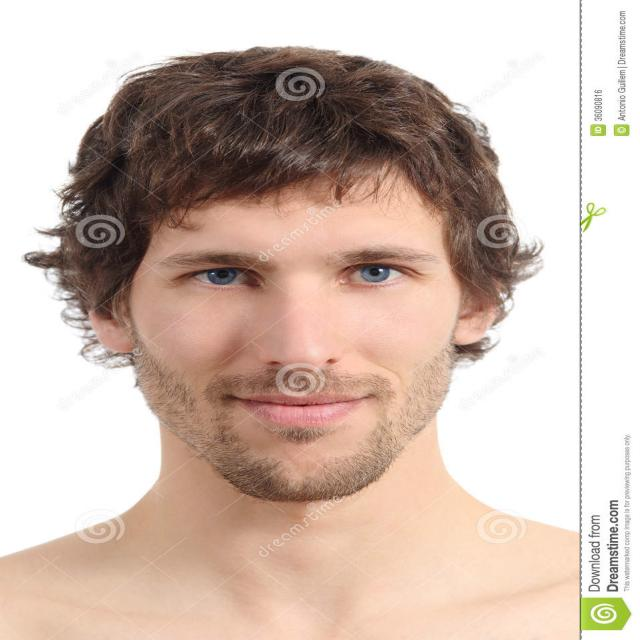earlobe: (452, 314, 481, 346), (102, 328, 133, 353)
eye: (332, 264, 414, 287), (188, 266, 263, 289)
nose: (260, 362, 340, 393)
